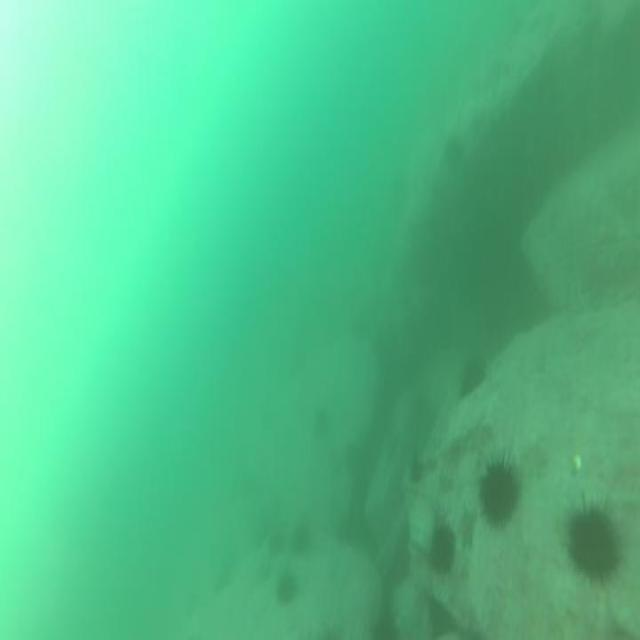echinus: (564, 490, 622, 583), (474, 450, 522, 532), (423, 515, 457, 580), (455, 357, 488, 403), (440, 128, 466, 180), (273, 567, 299, 610), (310, 402, 331, 446), (290, 521, 314, 558)
starfish: (455, 501, 480, 556)
